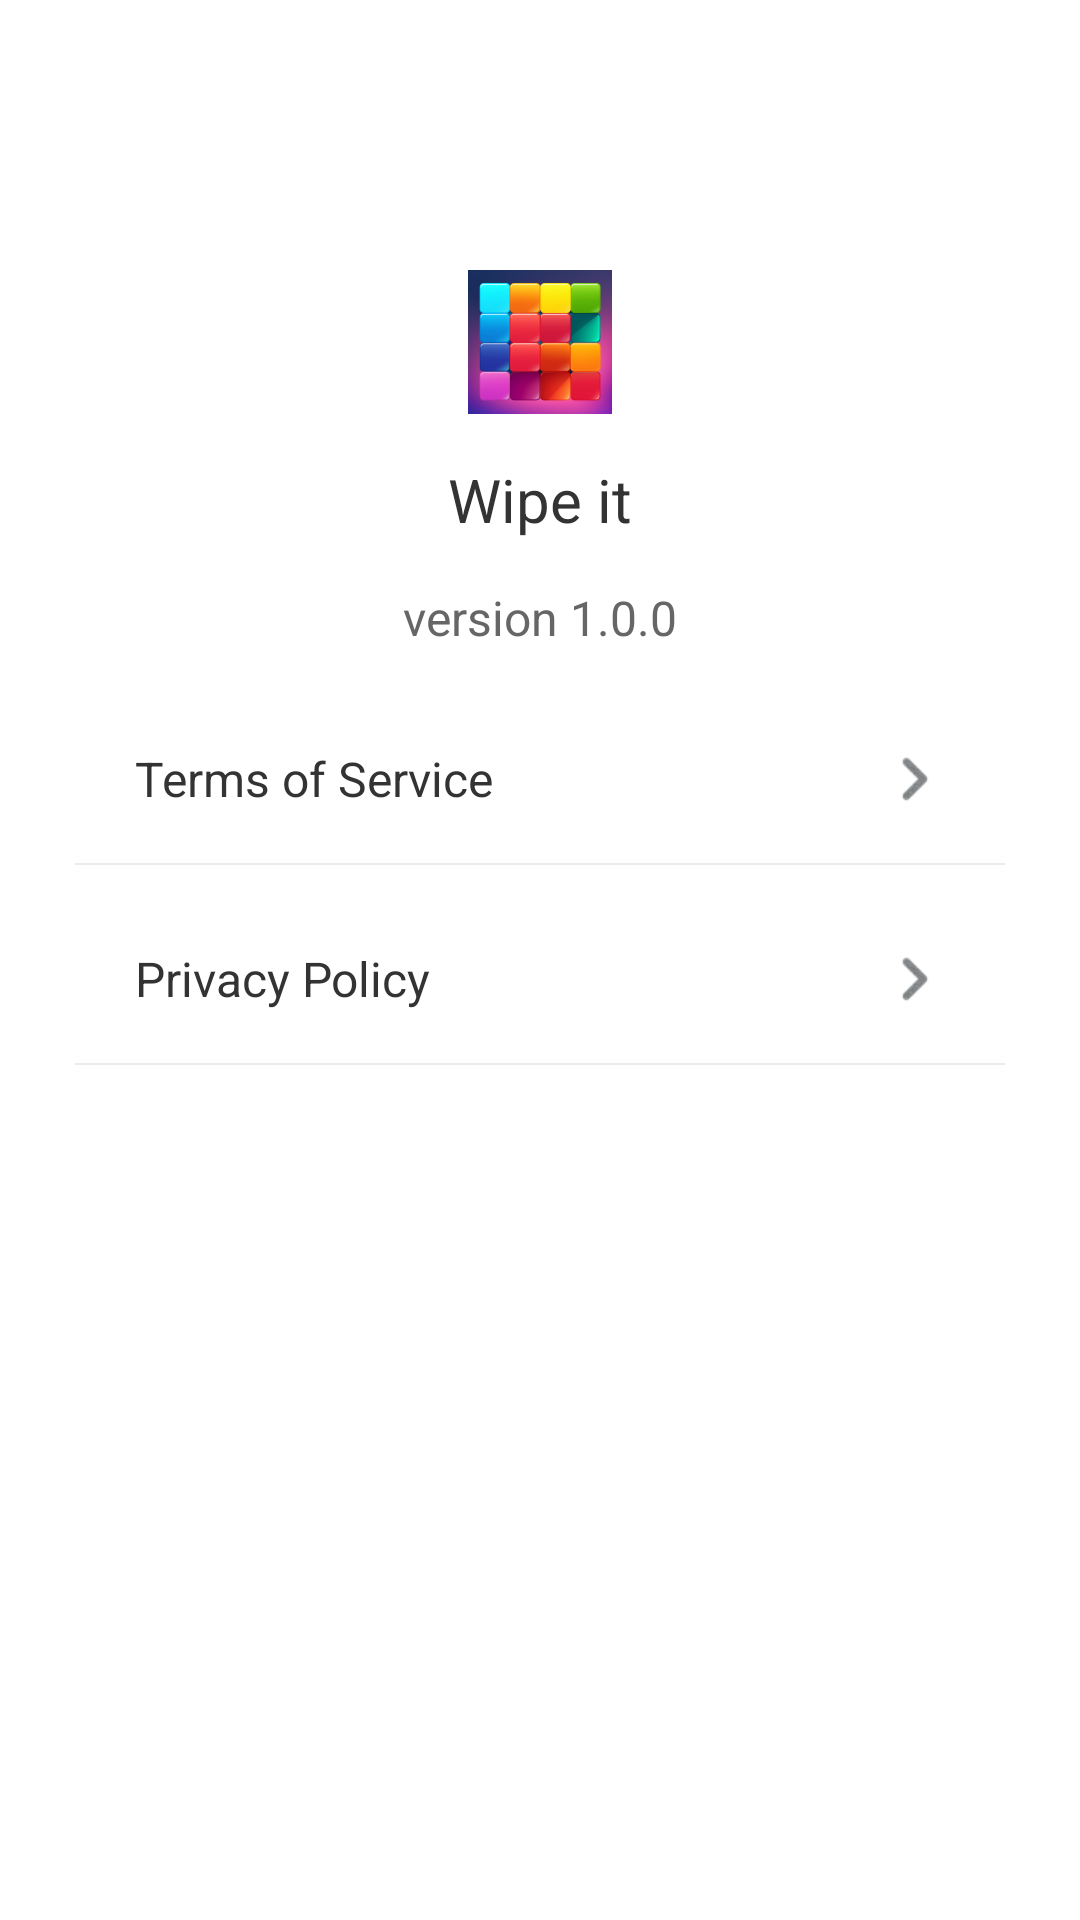

Named icons in this screenshot (1080×1920) and their bounding boxes, (x1, y1, x2, y2):
setting arrow: (902, 758, 928, 800), (902, 958, 928, 1001)
